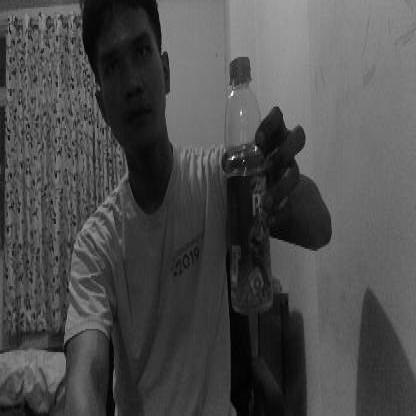plastic_bottles: (223, 64, 275, 316)
